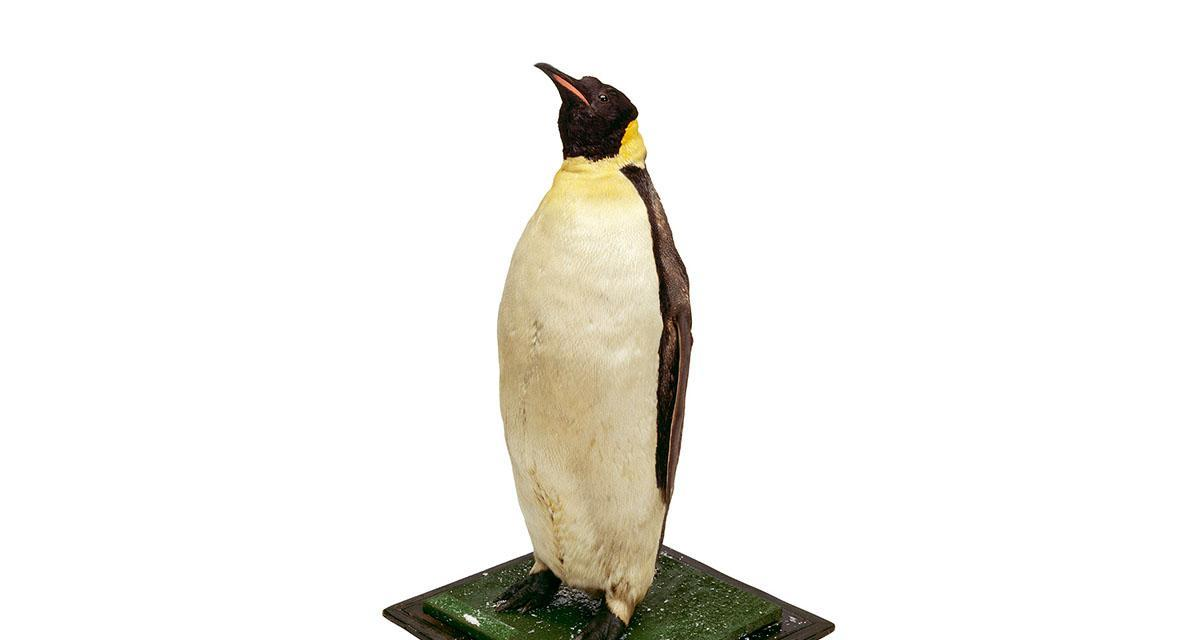emporer: (449, 38, 711, 640)
